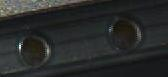joints: (104, 10, 144, 57), (14, 31, 54, 67)
